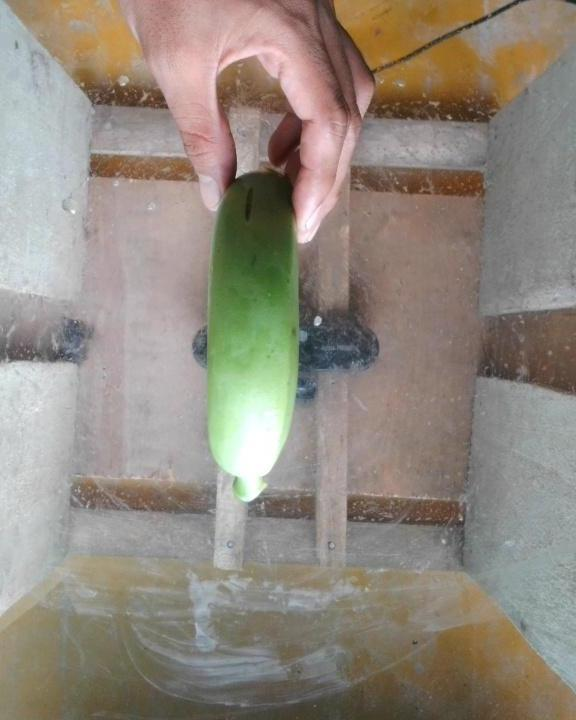CLASS B: (199, 160, 312, 523)
Class A: (232, 177, 264, 225)
